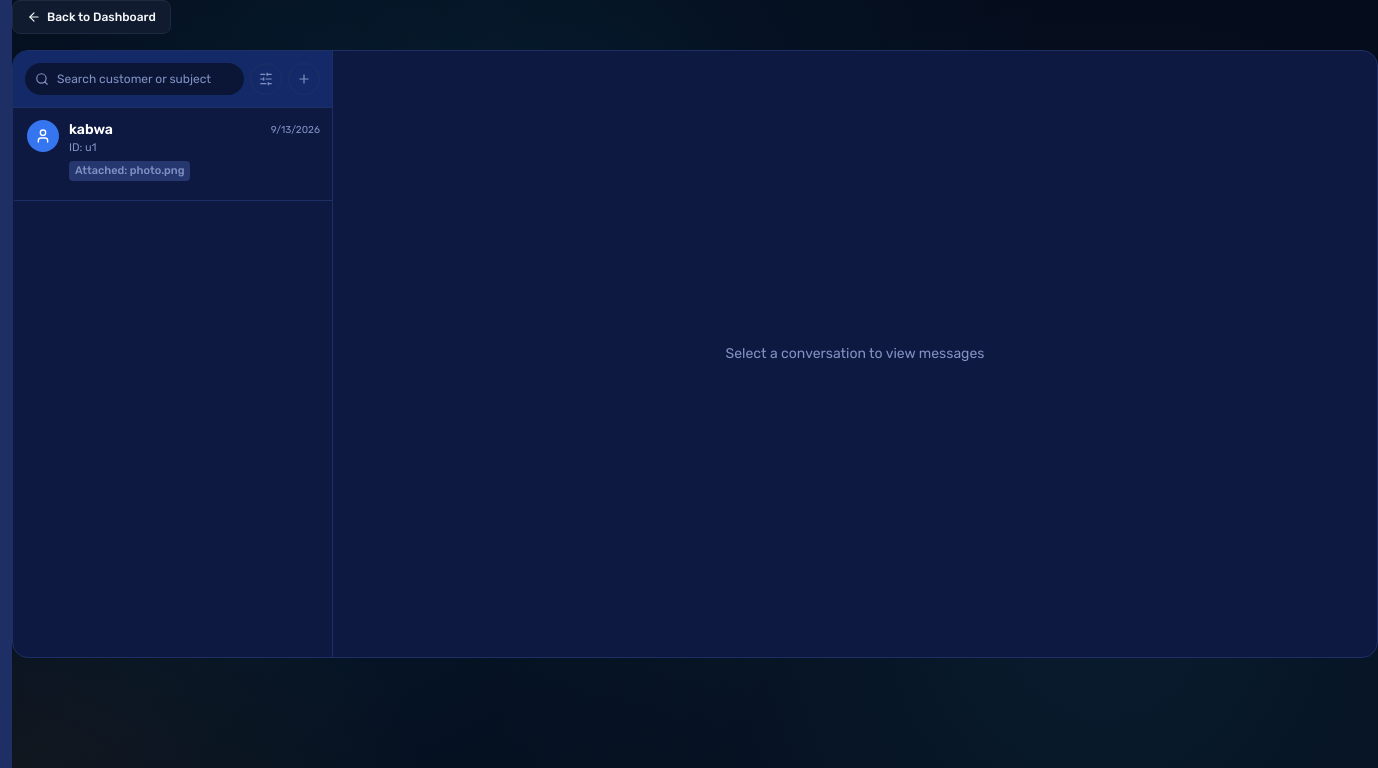
Admin SupportPage › "Message a user" — contacting a user with no existing ticket › is hidden until the toggle button is clicked
The width and height of the screenshot is (1378, 768).
Check: the text "kabwa" is shown, box [69,120,113,140]
Check: the field with placeholder "Search by name or email…" is not shown
Click the button named "Message a user": (304, 79) [288,63,320,95]
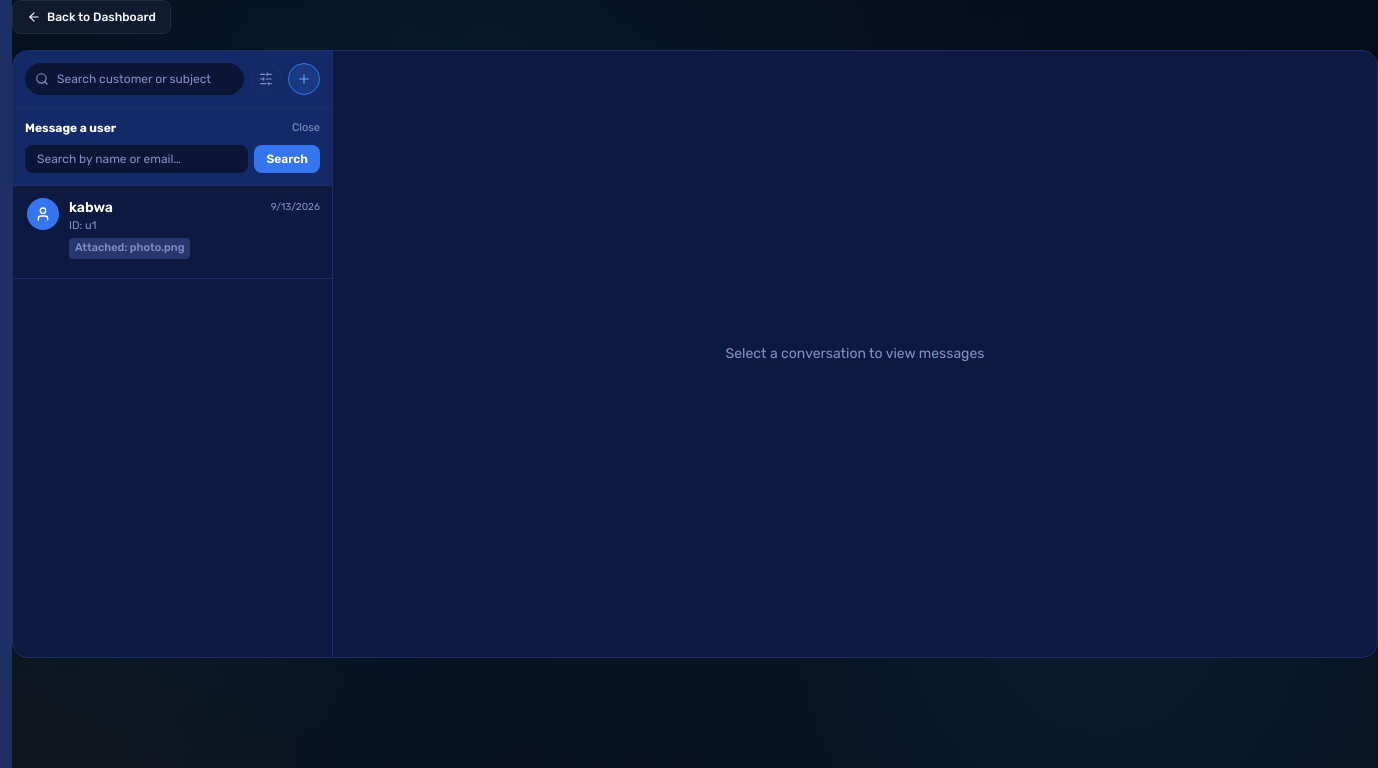
Check: the field with placeholder "Search by name or email…" is shown, box [25,144,248,172]
